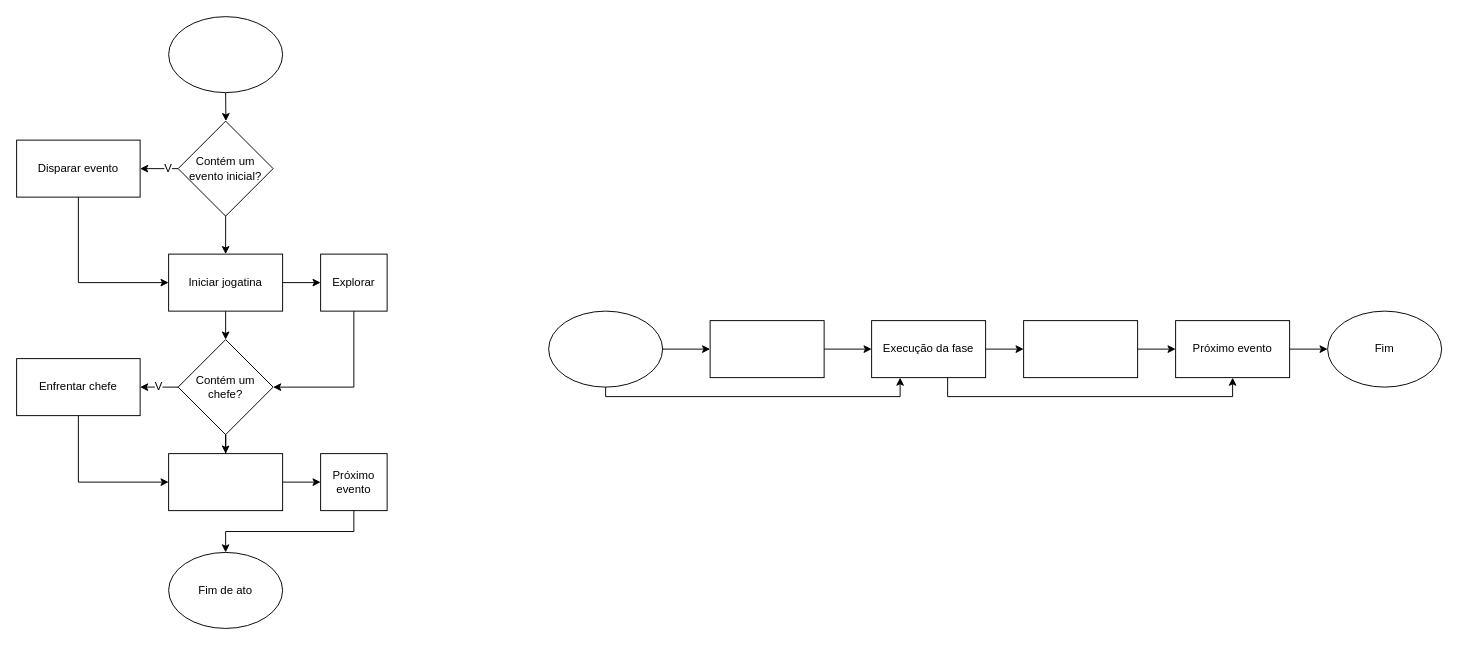
This 1458x645 diagram has some shape labels left out. The centre of each missing label's shape, as x and y in pixels:
Encerrar jogatina: the point at 225,482
Evento principal: the point at 1080,349
Introdução: the point at 766,349
Início: the point at 605,348
Início de ato: the point at 225,54
